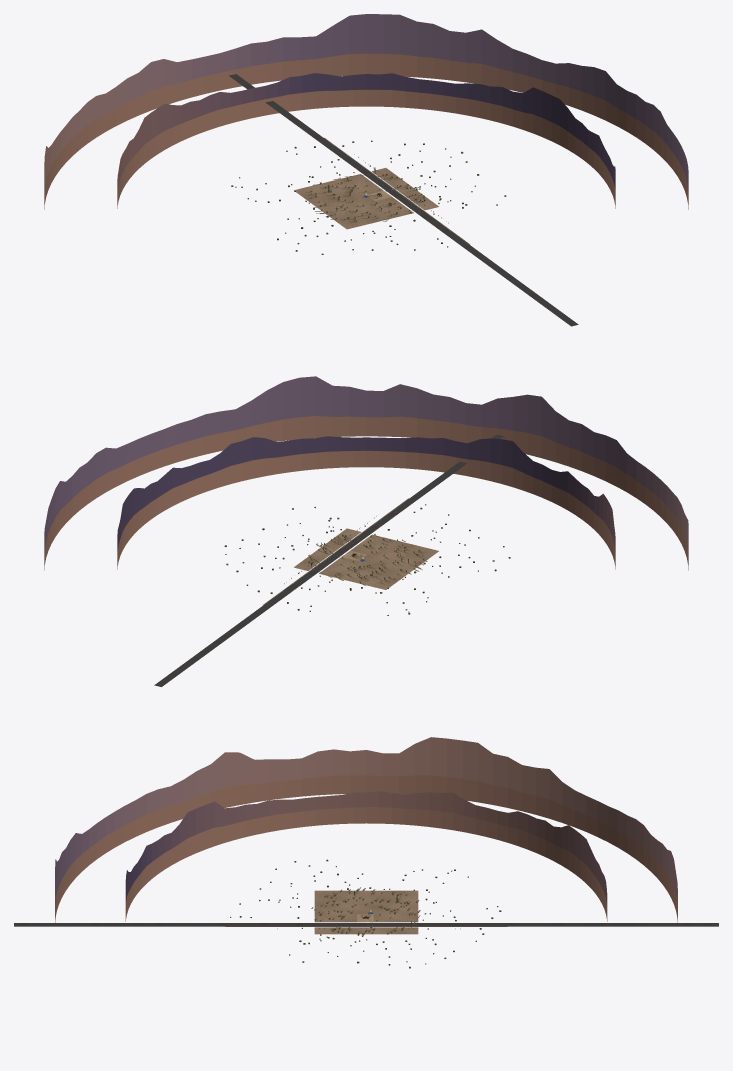
Rendered from memory_desert.glb.
3 renders of one model, top to bottom at view 1: azimuth 30°, elevation 25°; view 2: azimuth 150°, elevation 25°; view 3: azimuth 270°, elevation 25°, orthographic. The views are drawn at different scales.
Visible parts, largest first — view 1: sky_desert, desert; view 2: sky_desert, desert; view 3: sky_desert, desert.
Part boxes in pixels (x1,y1,x2,y2): sky_desert: (44,14,688,209); desert: (229,74,578,326); sky_desert: (44,376,688,570); desert: (154,434,510,686); sky_desert: (55,737,677,922); desert: (14,859,718,968).
Size of the model in its own units: 580 by 56 by 600.
